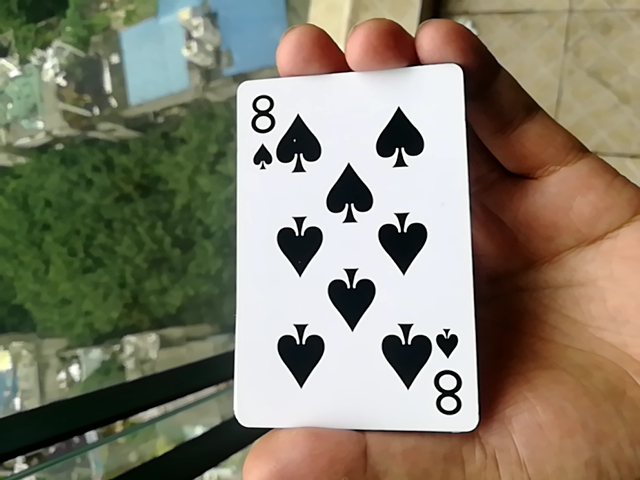ht 8: (230, 53, 467, 438)
